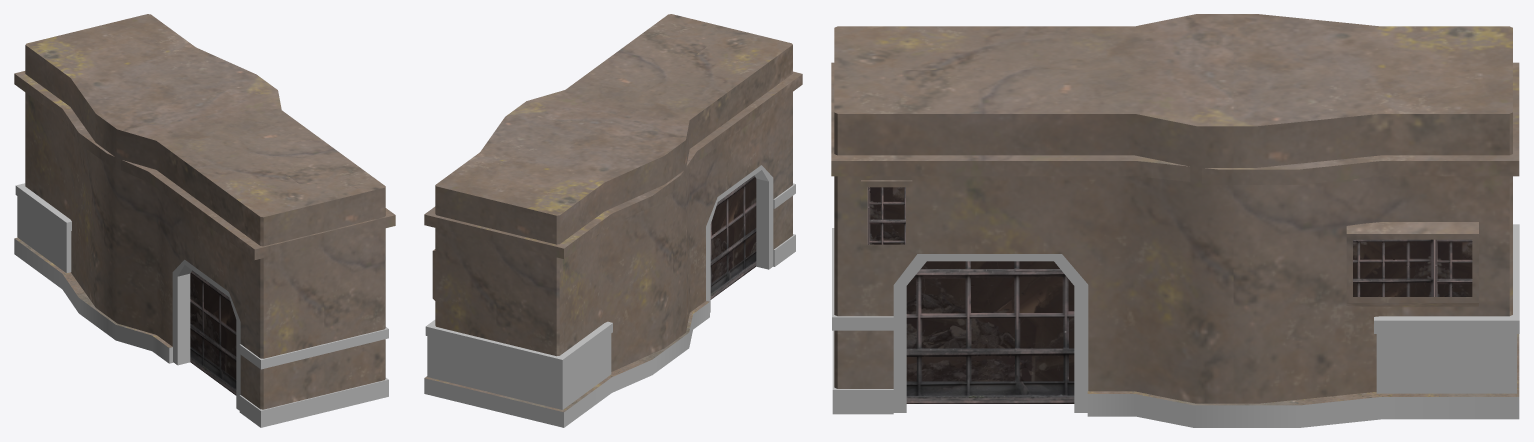
Rendered from ghiway_3a.fbx.
3 views of the same model, side by side, from view 1: azimuth 30°, elevation 25°; view 2: azimuth 150°, elevation 25°; view 3: azimuth 270°, elevation 25° (orthographic). The views are drawn at different scales.
Parts seen in each view (by area): view 1: ghiway_3a; view 2: ghiway_3a; view 3: ghiway_3a.
Part boxes in pixels (<box>): ghiway_3a: <box>14,14,395,427</box>; ghiway_3a: <box>424,14,802,427</box>; ghiway_3a: <box>831,14,1519,427</box>.
Size of the model in its own units: 699 by 847 by 1760.
